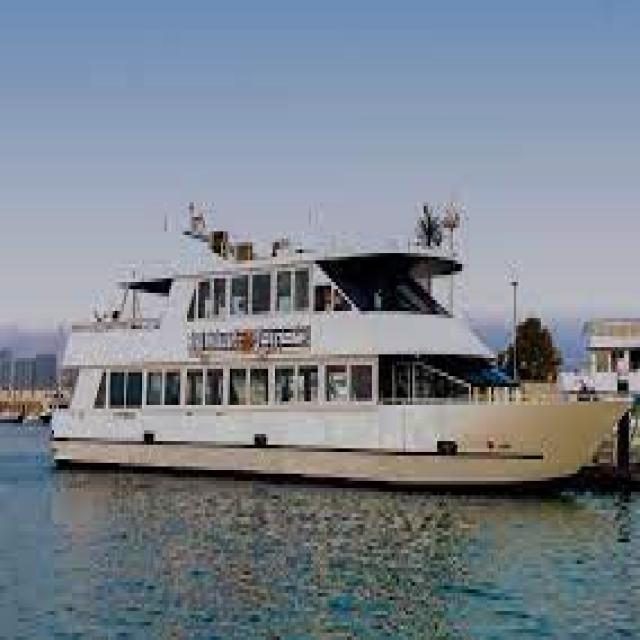passenger ship: (55, 215, 629, 484)
